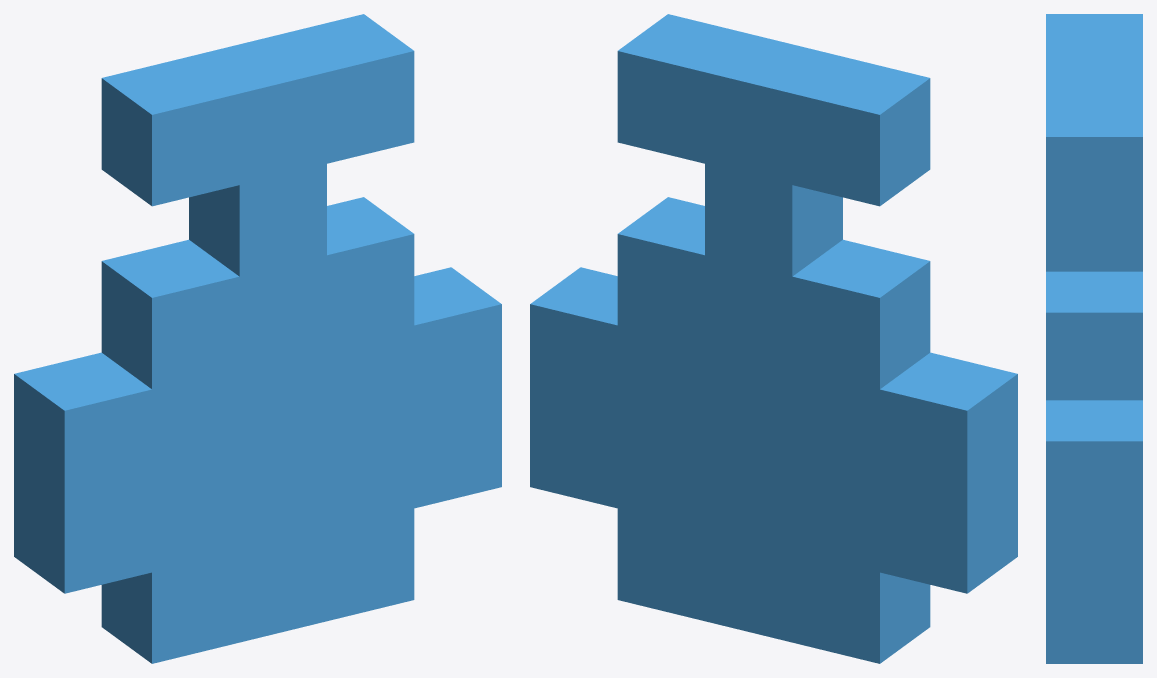
File: Potion-Large-Blue.vox.obj
3 views of the same model, side by side, from view 1: azimuth 30°, elevation 25°; view 2: azimuth 150°, elevation 25°; view 3: azimuth 270°, elevation 25° (orthographic). The views are drawn at different scales.
Size of the model in its own units: 0.5 by 0.6 by 0.1.
Materials: 1 (1 with a texture image).
